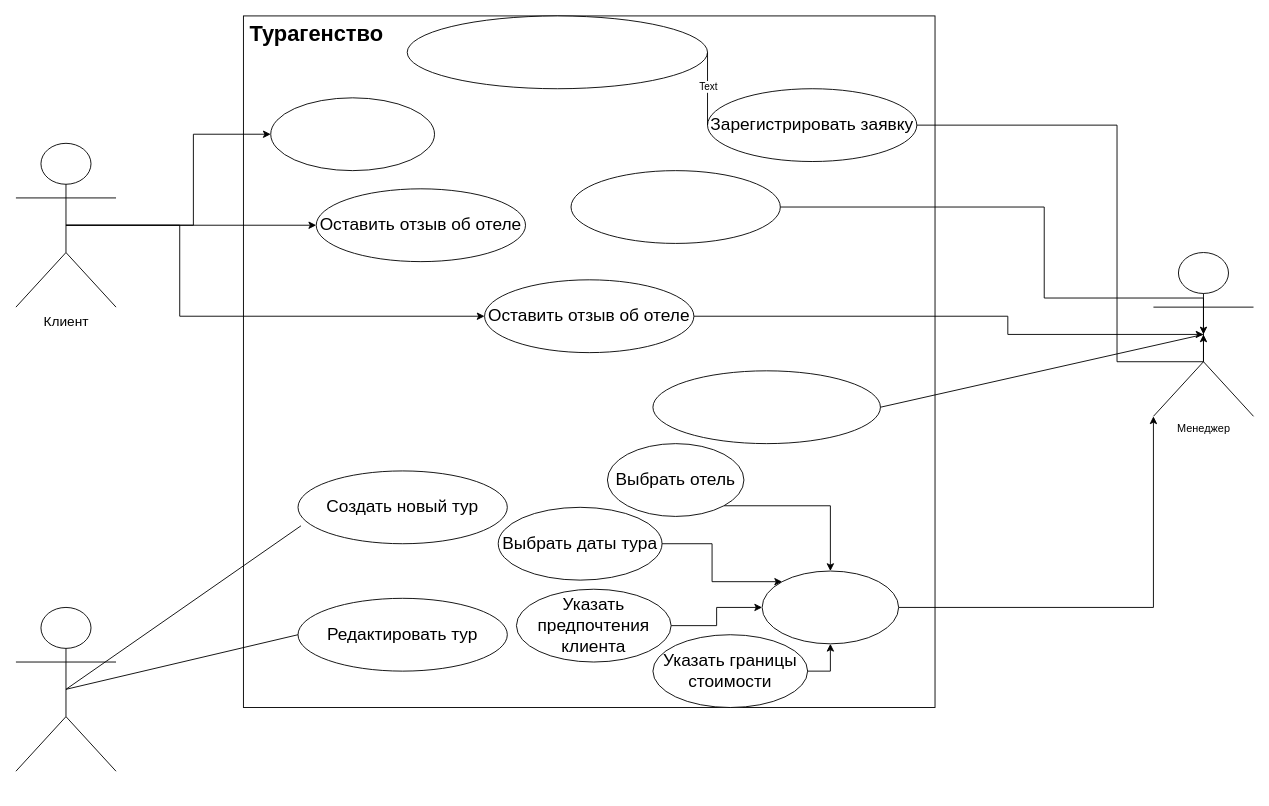
The diagram is 1269 pixels wide and 806 high, and some of its shapes have lost their labels. The centre of each missing label's shape, as x and y in pixels:
"Администратор" goes at point 65,689.
"Выбрать дополнительные услуги" goes at point 557,52.
"Зарегистрировать клиента" goes at point 766,407.
"Подобрать тур" goes at point 830,607.
"Сохранить ваучер" goes at point 352,134.
"Сформировать ваучер" goes at point 675,206.
